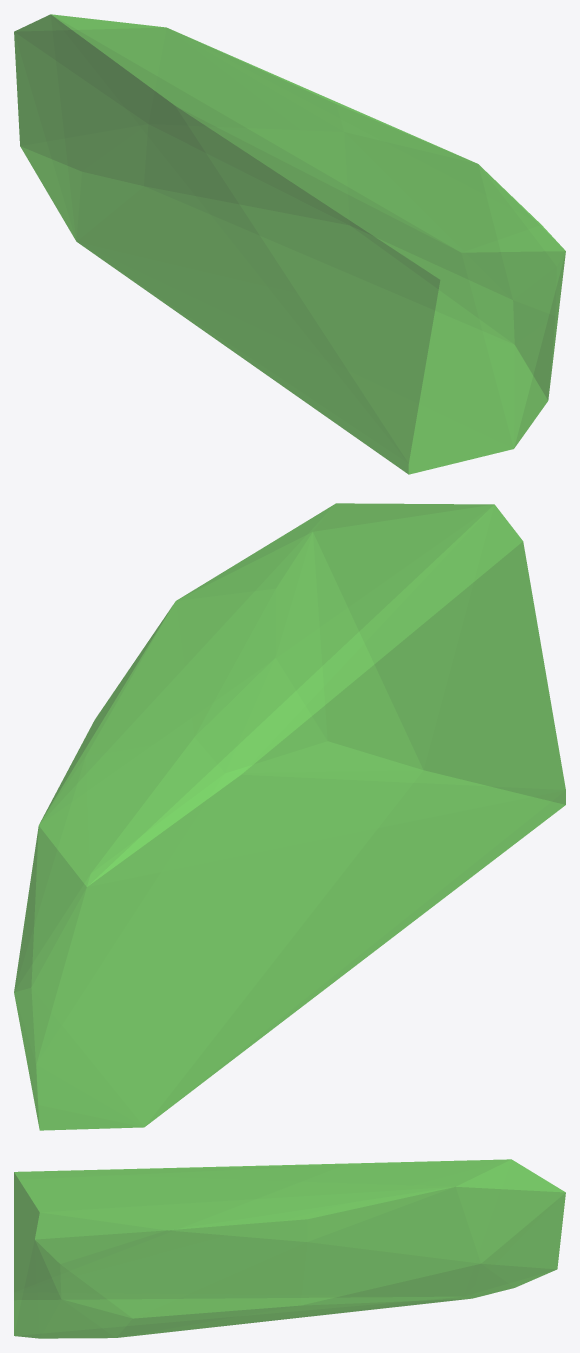
3 renders of one model, top to bottom at view 1: azimuth 30°, elevation 25°; view 2: azimuth 150°, elevation 25°; view 3: azimuth 270°, elevation 25°, orthographic. The views are drawn at different scales.
Visible parts, largest first — view 1: Shape_IndexedFaceSet.014_Shape_IndexedFaceSet.7640; view 2: Shape_IndexedFaceSet.014_Shape_IndexedFaceSet.7640; view 3: Shape_IndexedFaceSet.014_Shape_IndexedFaceSet.7640.
Boxes of the visible parts, left/top/right/bottom form: Shape_IndexedFaceSet.014_Shape_IndexedFaceSet.7640: left=14, top=14, right=565, bottom=474; Shape_IndexedFaceSet.014_Shape_IndexedFaceSet.7640: left=14, top=503, right=565, bottom=1130; Shape_IndexedFaceSet.014_Shape_IndexedFaceSet.7640: left=14, top=1159, right=565, bottom=1338.
Size of the model in its own units: 0.1597 by 0.1597 by 0.5465.
